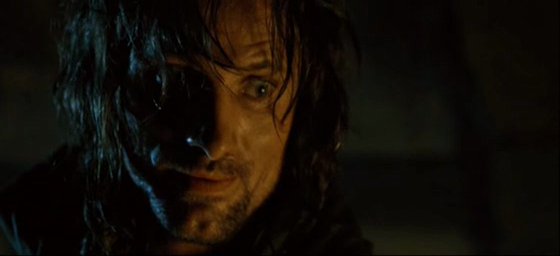cu: (1, 1, 560, 256)
face: (129, 8, 295, 241)
person: (1, 1, 376, 256)
